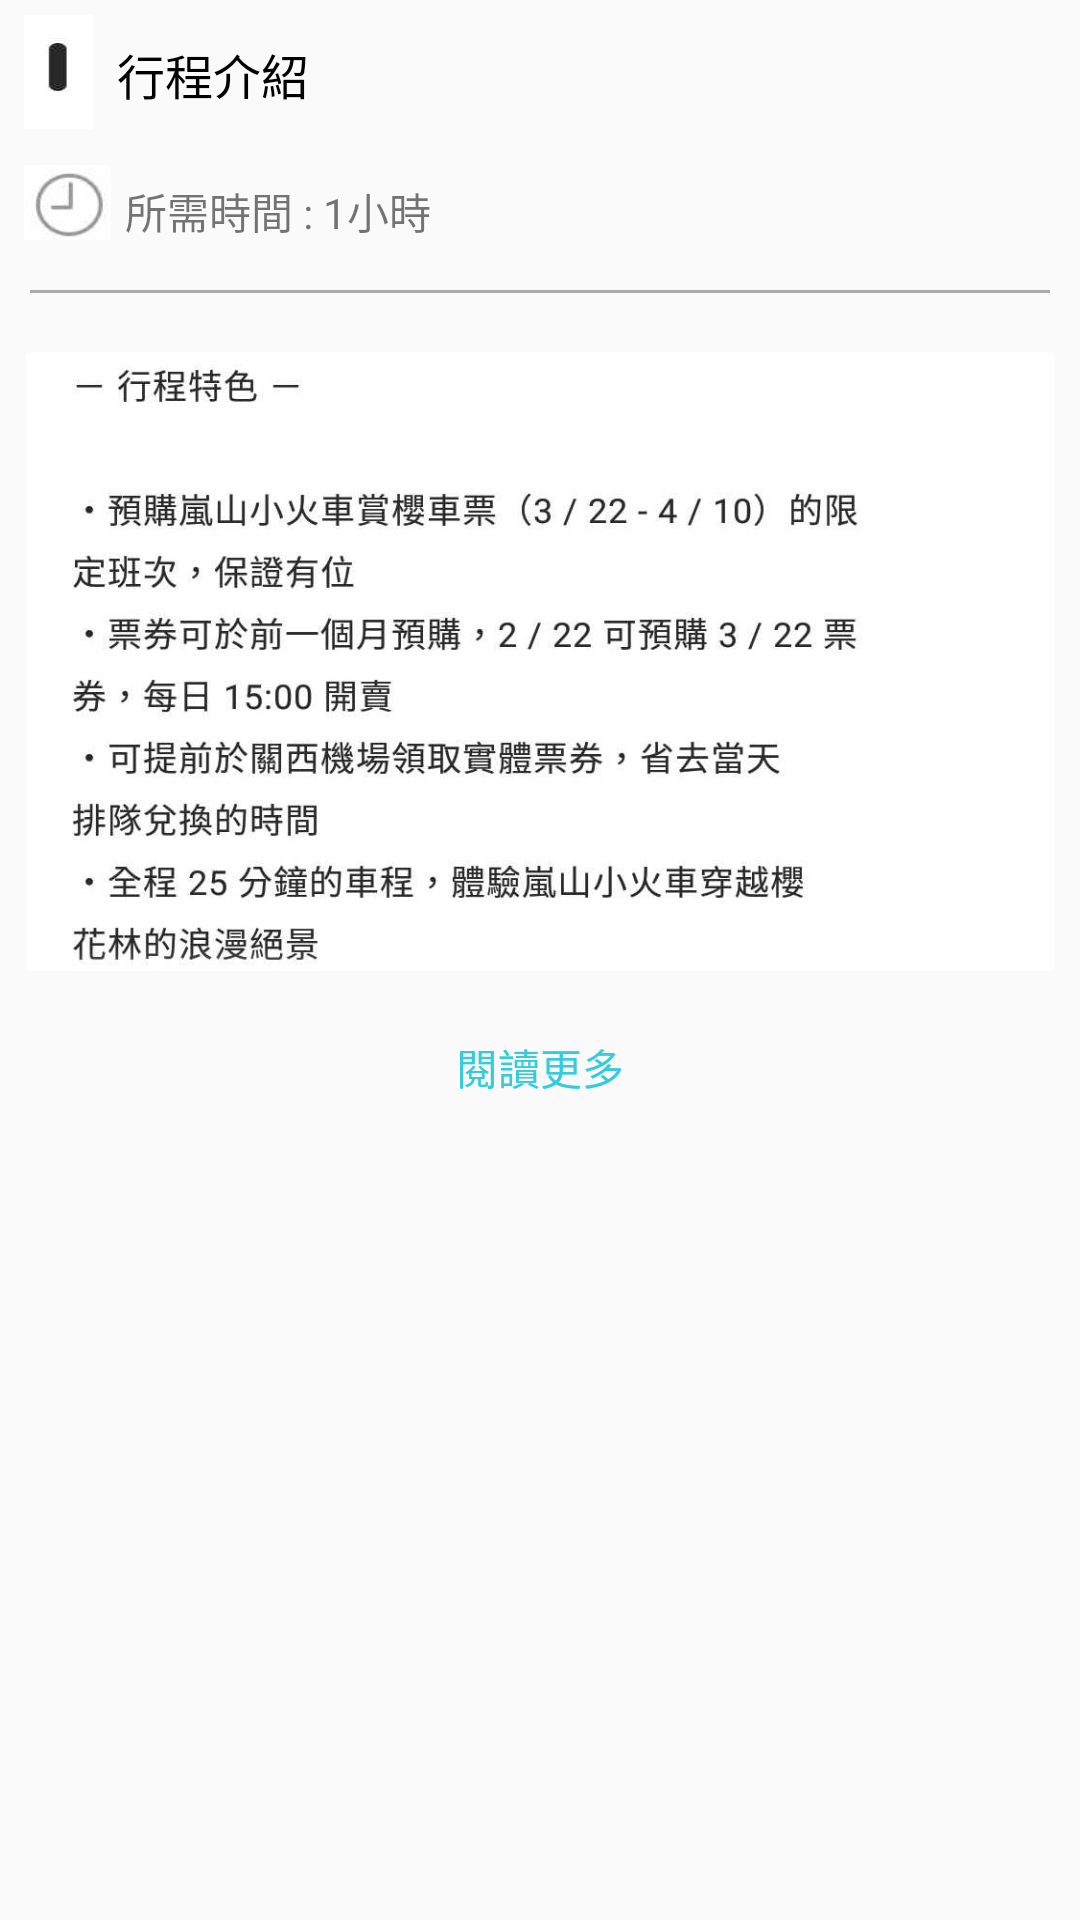

Named icons in this screenshot (1080 × 1920) and their centers, (x=x, y=y):
time: (x=69, y=205)
